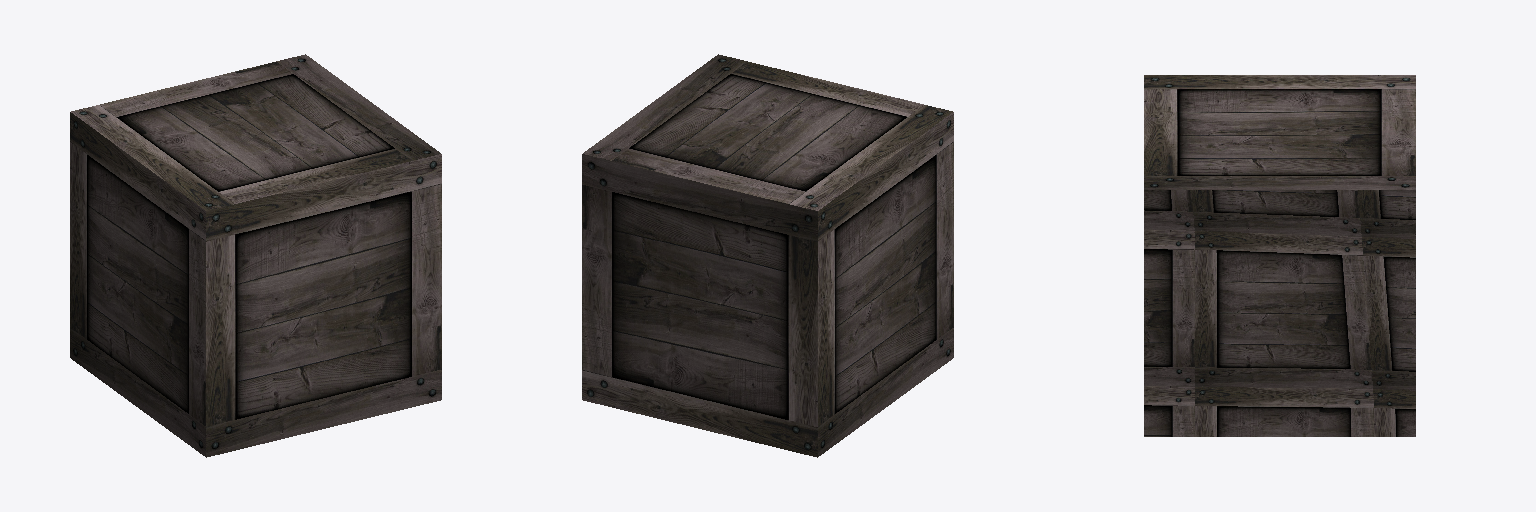
The picture shows the model from 3 angles: view 1: azimuth 30°, elevation 25°; view 2: azimuth 150°, elevation 25°; view 3: azimuth 270°, elevation 25°; orthographic projection.
Parts seen in each view (by area): view 1: Cube; view 2: Cube; view 3: Cube.
Part boxes in pixels (x1,y1,x2,y2): Cube: (70, 54, 441, 457); Cube: (582, 54, 953, 457); Cube: (1144, 75, 1415, 436).
Size of the model in its own units: 2 by 2 by 2.
1 materials, 1 textured.